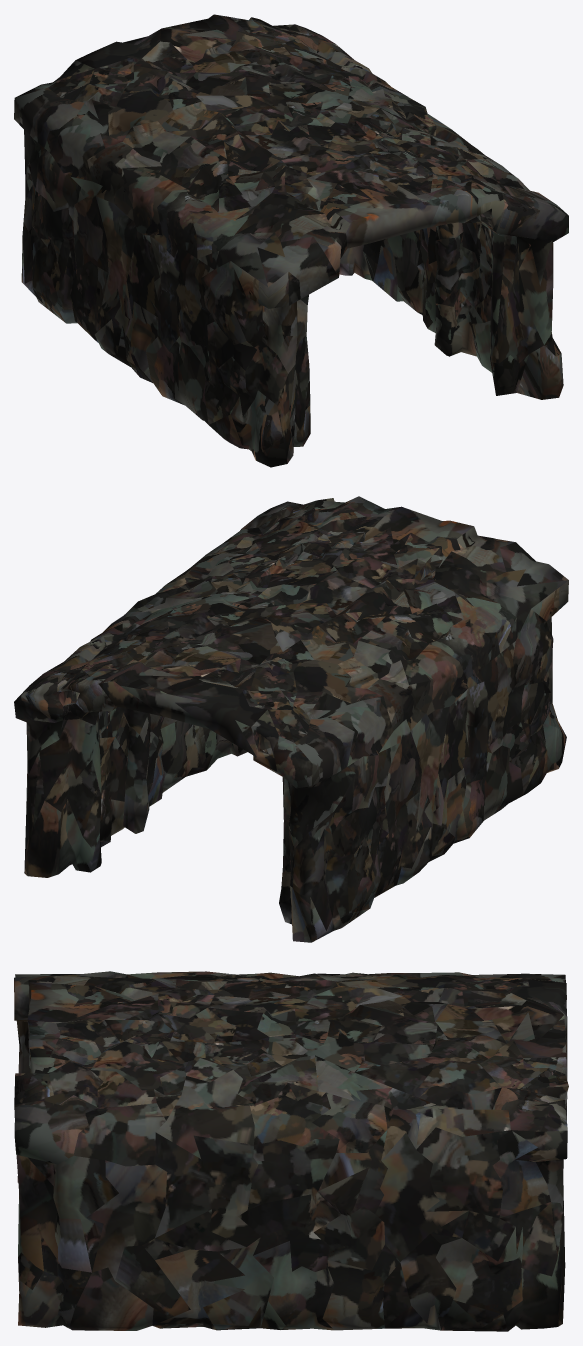
The model's file is tunelMina.fbx.
The picture shows the model from 3 angles, top to bottom: view 1: azimuth 30°, elevation 25°; view 2: azimuth 150°, elevation 25°; view 3: azimuth 270°, elevation 25°; orthographic projection. The views are drawn at different scales.
Parts seen in each view (by area): view 1: input.001; view 2: input.001; view 3: input.001.
Part boxes in pixels (x1,y1,x2,y2): input.001: [14, 14, 568, 467]; input.001: [14, 496, 568, 942]; input.001: [14, 971, 568, 1331].
Bounding box in the file's own units: 250 × 170 × 350.
